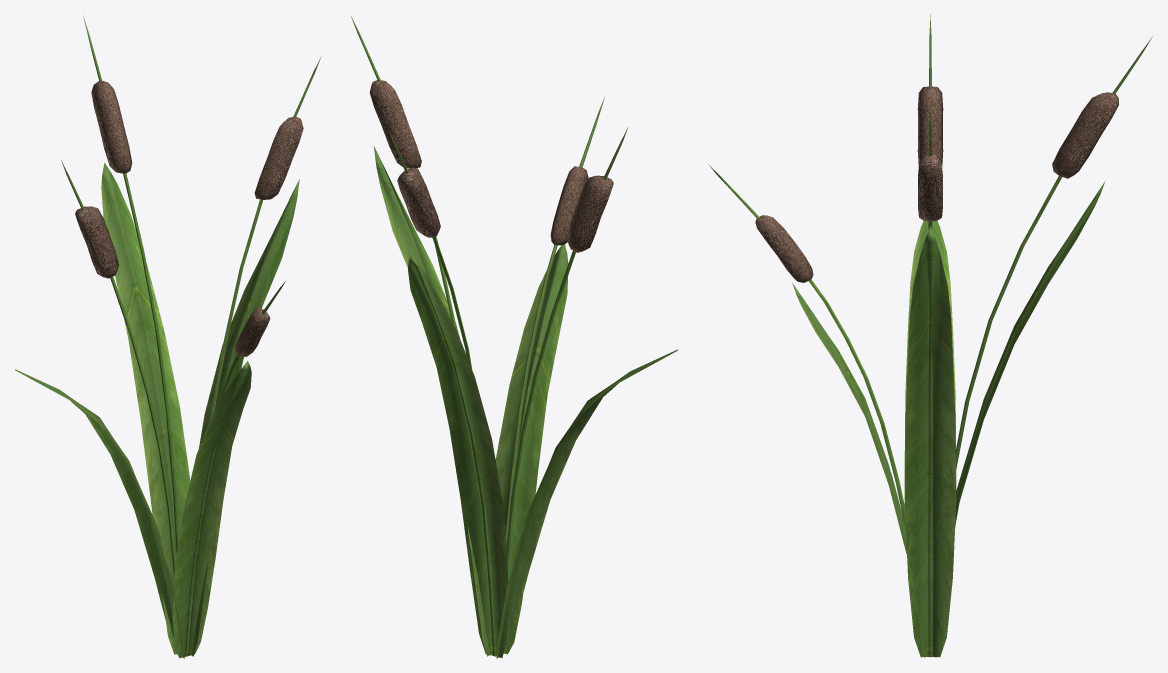
The model's file is cattail_plant.glb.
3 renders of one model, left to right at view 1: azimuth 30°, elevation 25°; view 2: azimuth 150°, elevation 25°; view 3: azimuth 270°, elevation 25°, orthographic. The views are drawn at different scales.
Parts seen in each view (by area): view 1: _01_0, _01_1; view 2: _01_0, _01_1; view 3: _01_0, _01_1.
Part boxes in pixels (box(x1,y1,x2,y2)): _01_0: box(15, 15, 321, 658); _01_1: box(75, 80, 303, 356); _01_0: box(351, 16, 677, 658); _01_1: box(369, 80, 613, 252); _01_0: box(708, 14, 1152, 658); _01_1: box(755, 86, 1118, 282).
Bounding box in the file's own units: 0.6946 × 1.22 × 0.7962.
2 materials, 2 textured.
